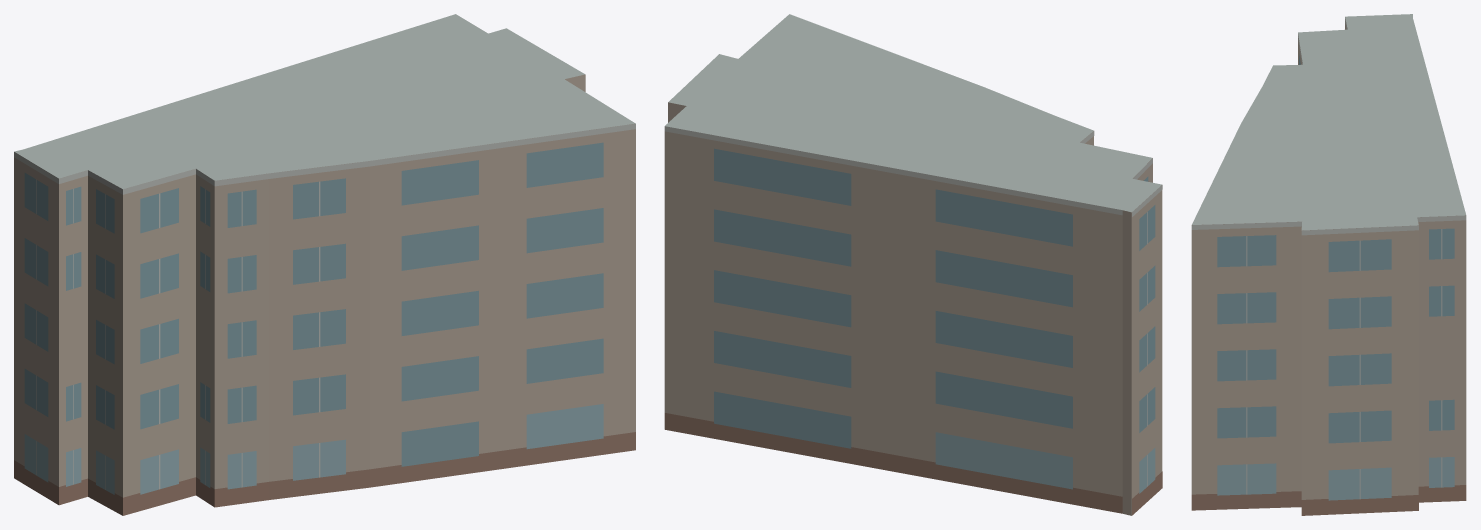
Rendered from survey-upis-32998317.glb.
3 views of the same model, side by side, from view 1: azimuth 30°, elevation 25°; view 2: azimuth 150°, elevation 25°; view 3: azimuth 270°, elevation 25° (orthographic). The views are drawn at different scales.
Parts seen in each view (by area): view 1: survey-upis-32998317.tmp; view 2: survey-upis-32998317.tmp; view 3: survey-upis-32998317.tmp.
Boxes of the visible parts, x1=… form: survey-upis-32998317.tmp: x1=14, y1=14, x2=635, y2=515; survey-upis-32998317.tmp: x1=664, y1=14, x2=1162, y2=515; survey-upis-32998317.tmp: x1=1191, y1=14, x2=1466, y2=515.
Size of the model in its own units: 23.11 by 14.2 by 12.4.
